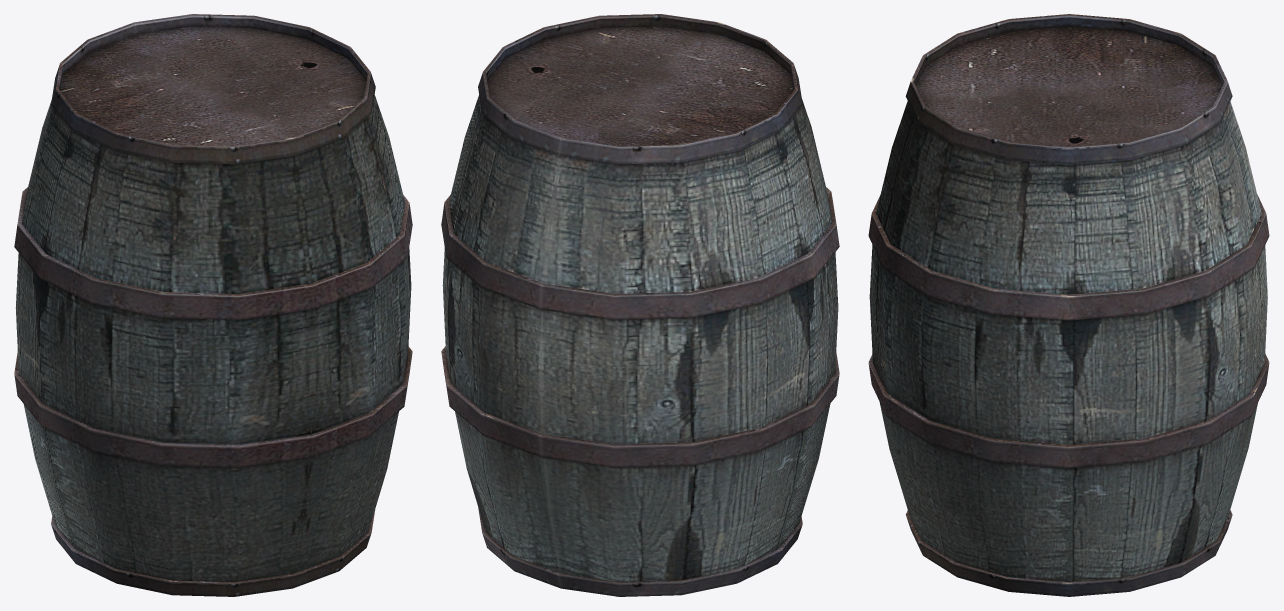
Rendered from wine_barrel.glb.
The picture shows the model from 3 angles, left to right: view 1: azimuth 30°, elevation 25°; view 2: azimuth 150°, elevation 25°; view 3: azimuth 270°, elevation 25°; orthographic projection.
Visible parts, largest first — view 1: wine_barrel; view 2: wine_barrel; view 3: wine_barrel.
Boxes of the visible parts, x1=… form: wine_barrel: x1=14, y1=14, x2=412, y2=596; wine_barrel: x1=441, y1=14, x2=839, y2=596; wine_barrel: x1=868, y1=14, x2=1269, y2=596.
Bounding box in the file's own units: 0.7319 × 0.9045 × 0.7319.
1 material, 1 textured.
